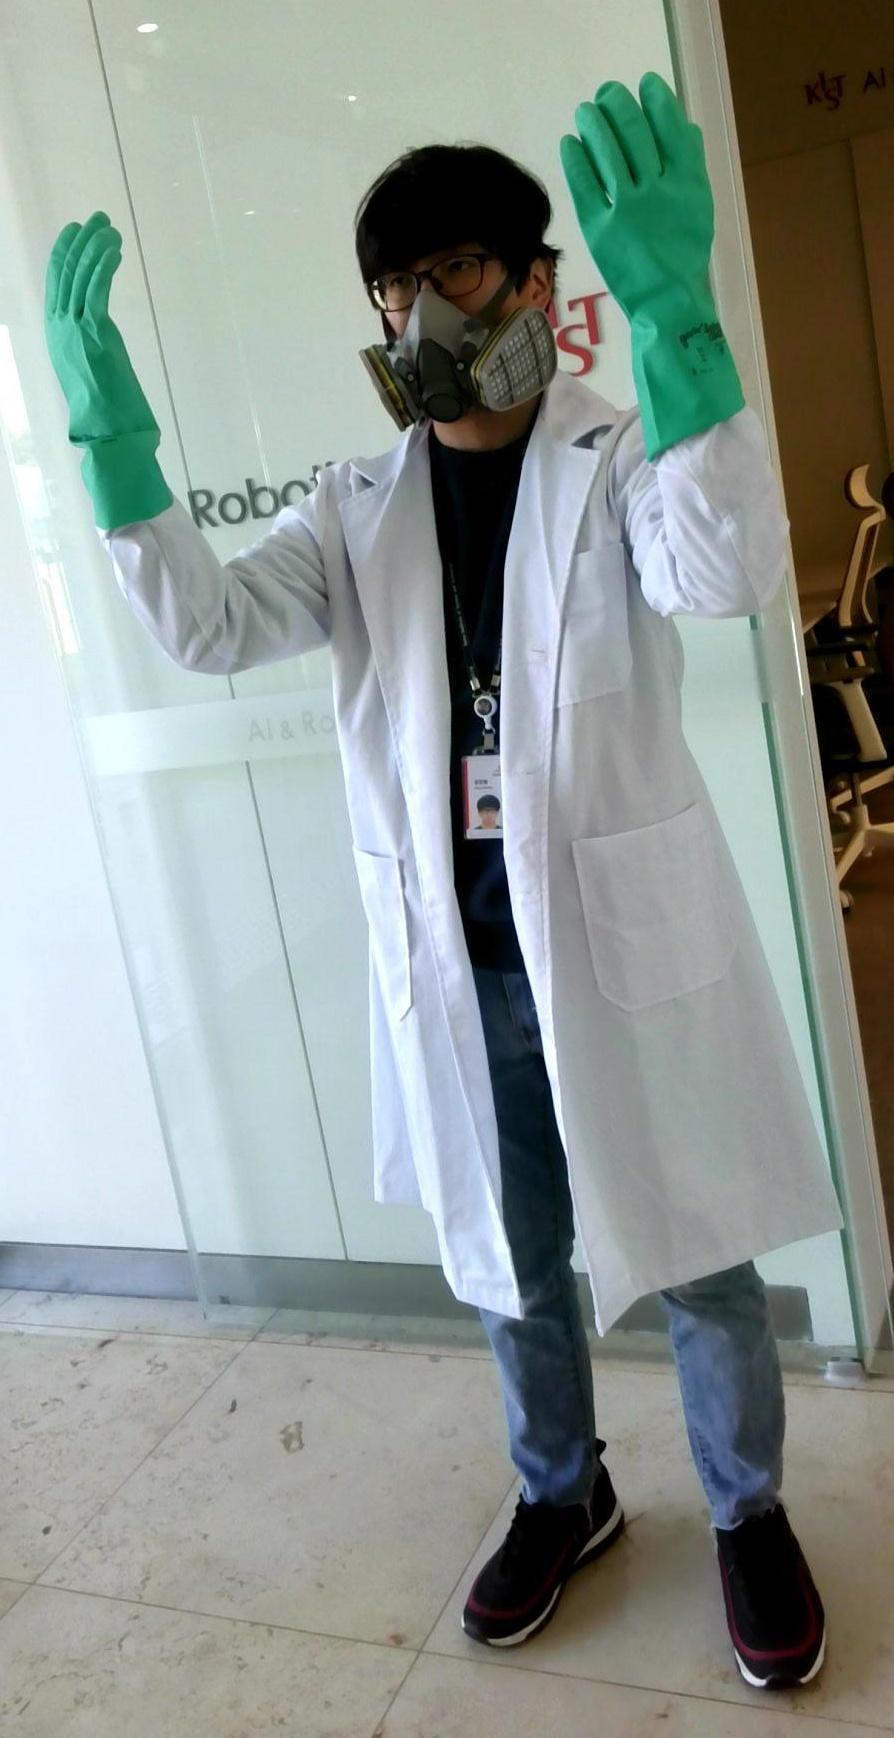lab_coat: (302, 407, 743, 1267)
